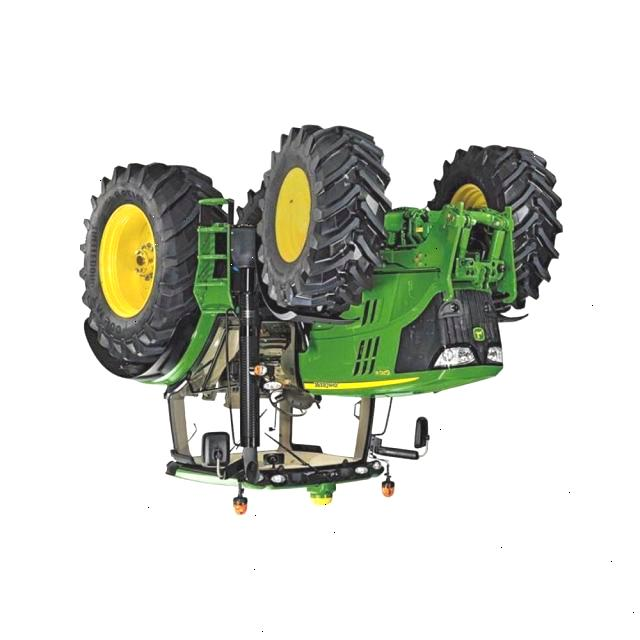Tratores - v5 YOLO V8L 2024-11-13: (69, 126, 568, 504)
